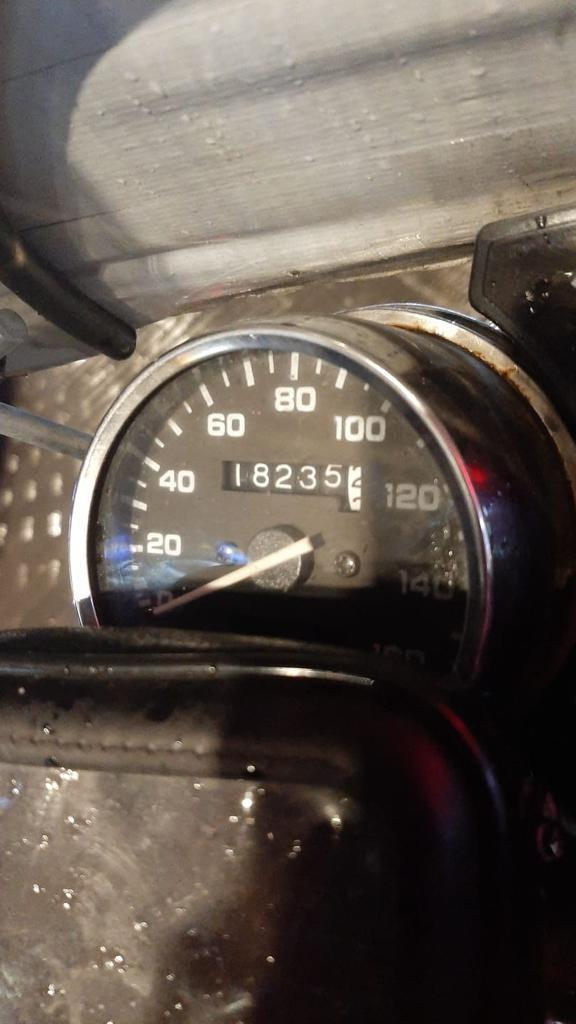1: (232, 460, 245, 495)
2: (273, 462, 293, 493), (347, 464, 363, 490)
3: (298, 461, 316, 492)
5: (323, 459, 344, 488)
8: (251, 460, 270, 492)
odometer: (217, 455, 365, 515)
